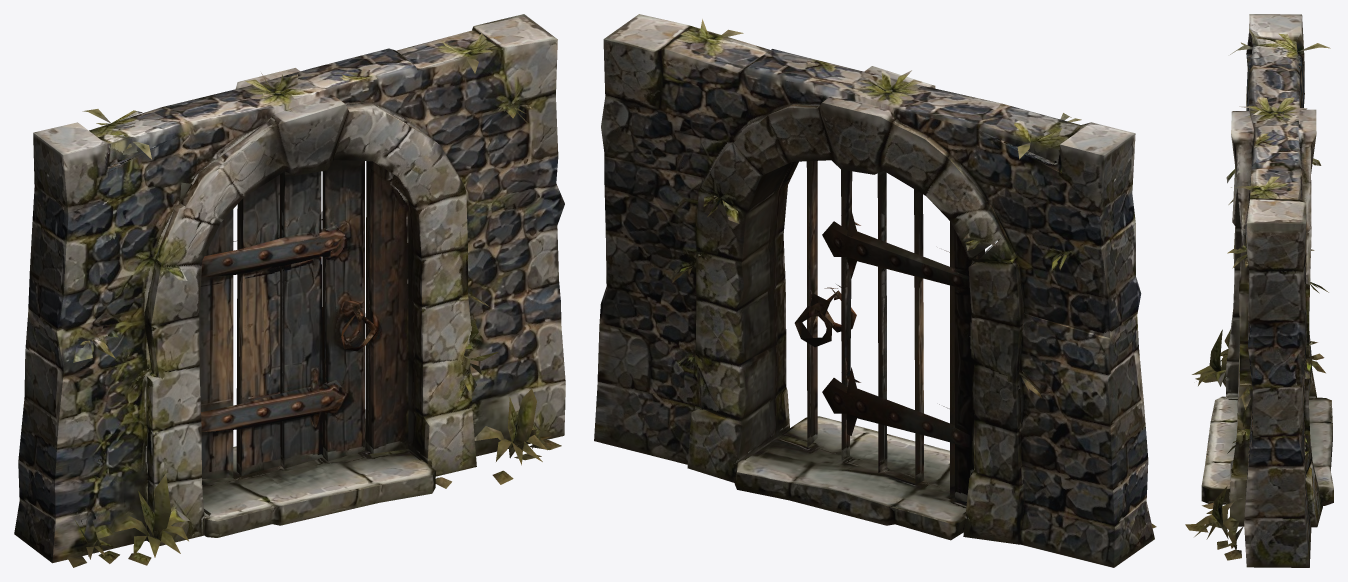
Rendered from act1_kit_v1_barrow_door.glb.
3 renders of one model, left to right at view 1: azimuth 30°, elevation 25°; view 2: azimuth 150°, elevation 25°; view 3: azimuth 270°, elevation 25°, orthographic. The views are drawn at different scales.
Visible parts, largest first — view 1: A21_1_barrow_door; view 2: A21_1_barrow_door; view 3: A21_1_barrow_door.
Part boxes in pixels (x1,y1,x2,y2): A21_1_barrow_door: [14, 14, 565, 567]; A21_1_barrow_door: [594, 14, 1156, 567]; A21_1_barrow_door: [1185, 14, 1333, 567].
Size of the model in its own units: 1 by 0.7552 by 0.2896.
1 material, 1 textured.
